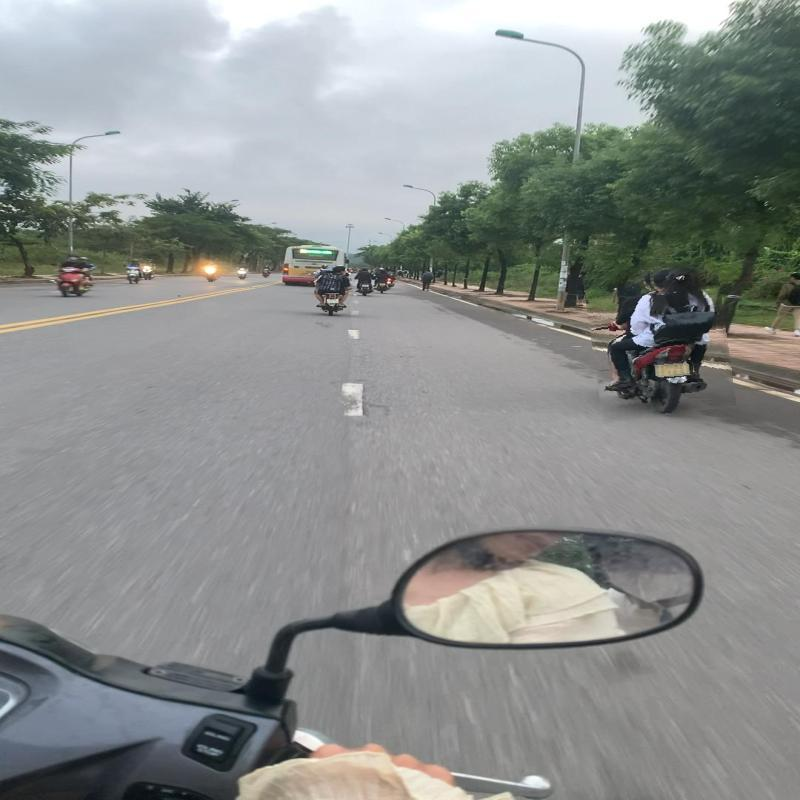licenseplate: (654, 361, 693, 379)
motorcyclist: (587, 262, 732, 420)
nohelmet: (658, 264, 706, 294), (650, 268, 674, 291)
